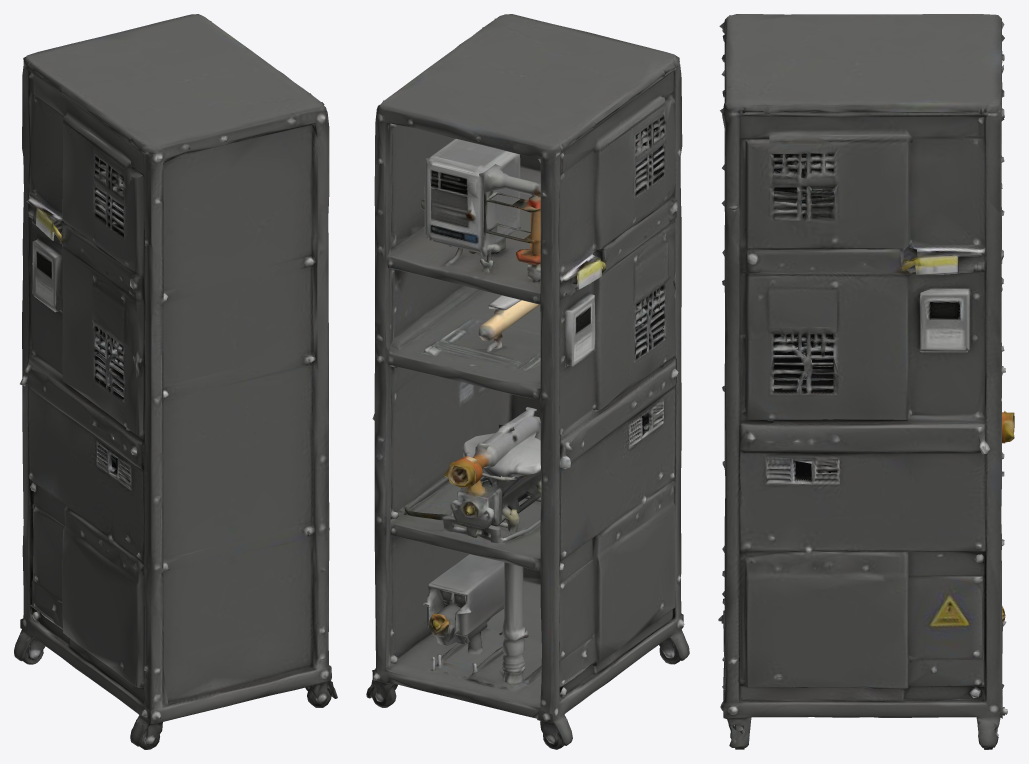
Rendered from eclss.glb.
3 views of the same model, side by side, from view 1: azimuth 30°, elevation 25°; view 2: azimuth 150°, elevation 25°; view 3: azimuth 270°, elevation 25° (orthographic). The views are drawn at different scales.
Parts seen in each view (by area): view 1: tripo_node_849432b6-c544-41e5-9e22-db4fba75751a; view 2: tripo_node_849432b6-c544-41e5-9e22-db4fba75751a; view 3: tripo_node_849432b6-c544-41e5-9e22-db4fba75751a.
Part boxes in pixels (box(x1,y1,x2,y2)): tripo_node_849432b6-c544-41e5-9e22-db4fba75751a: box(14, 14, 337, 749); tripo_node_849432b6-c544-41e5-9e22-db4fba75751a: box(366, 14, 689, 749); tripo_node_849432b6-c544-41e5-9e22-db4fba75751a: box(718, 14, 1014, 749).
Size of the model in its own units: 0.3399 by 0.9805 by 0.4086.
1 material, 1 textured.
